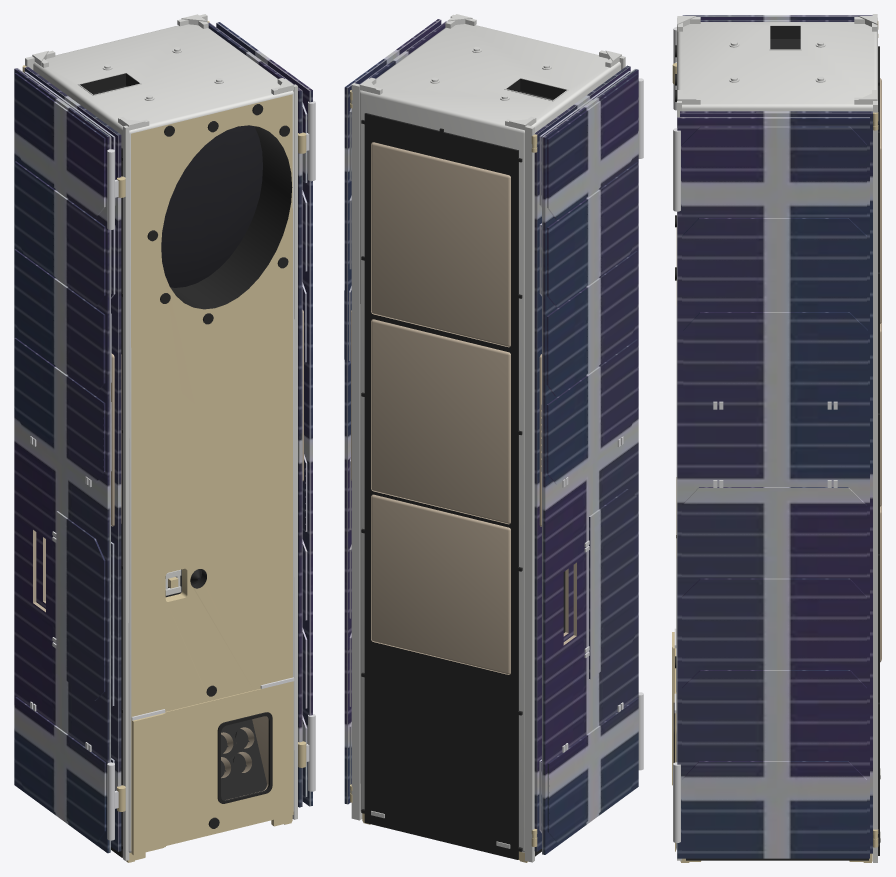
Rendered from cubesat-mirata.glb.
3 views of the same model, side by side, from view 1: azimuth 30°, elevation 25°; view 2: azimuth 150°, elevation 25°; view 3: azimuth 270°, elevation 25° (orthographic). The views are drawn at different scales.
Visible parts, largest first — view 1: Layer_0, Layer_1; view 2: Layer_0, Layer_1; view 3: Layer_1, Layer_0.
Part boxes in pixels (left/top/right/bottom): Layer_0: left=22, top=14, right=297, bottom=862; Layer_1: left=14, top=22, right=315, bottom=853; Layer_0: left=350, top=14, right=625, bottom=862; Layer_1: left=344, top=19, right=643, bottom=854; Layer_1: left=672, top=15, right=877, bottom=858; Layer_0: left=672, top=14, right=881, bottom=862.
Size of the model in its own units: 0.1177 by 0.4015 by 0.0999.
Materials: 7 (1 with a texture image).
